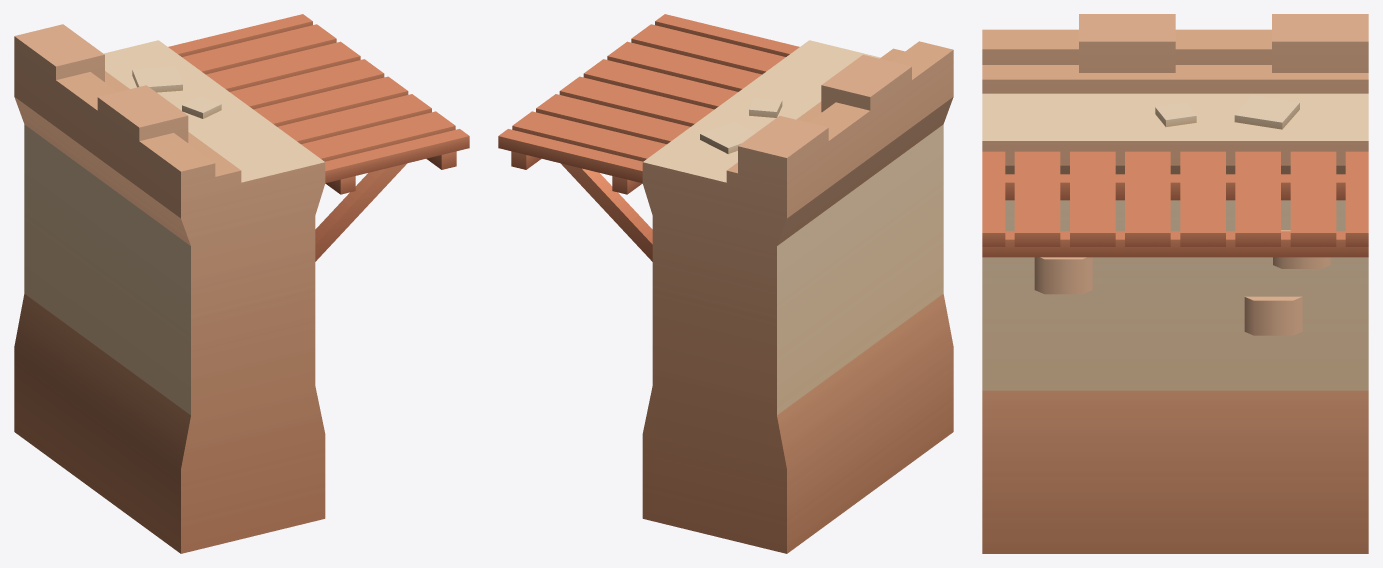
Rendered from wall-narrow-wood.obj.
3 renders of one model, left to right at view 1: azimuth 30°, elevation 25°; view 2: azimuth 150°, elevation 25°; view 3: azimuth 270°, elevation 25°, orthographic. The views are drawn at different scales.
Parts seen in each view (by area): view 1: wall-narrow-wood; view 2: wall-narrow-wood; view 3: wall-narrow-wood.
Boxes of the visible parts, x1,y1,x2,y2 form: wall-narrow-wood: [14, 14, 469, 553]; wall-narrow-wood: [498, 14, 953, 553]; wall-narrow-wood: [982, 14, 1368, 553].
Size of the model in its own units: 1 by 1.31 by 1.
Materials: 1 (1 with a texture image).
